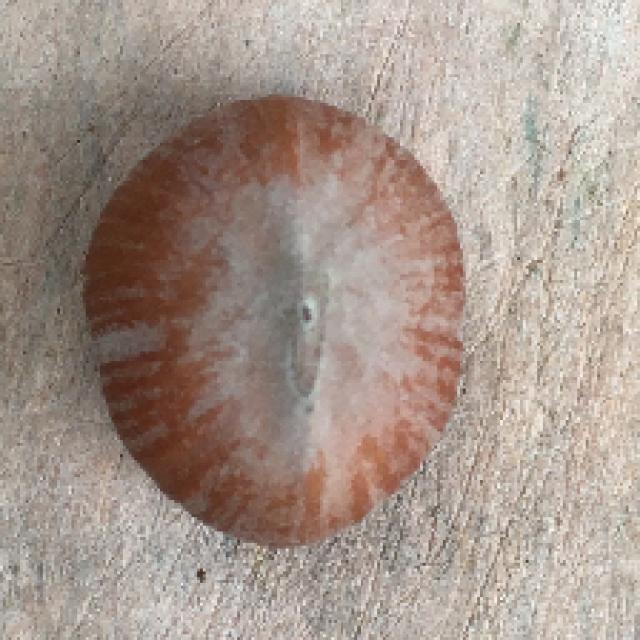QualityHazelnut: (80, 92, 470, 538)
